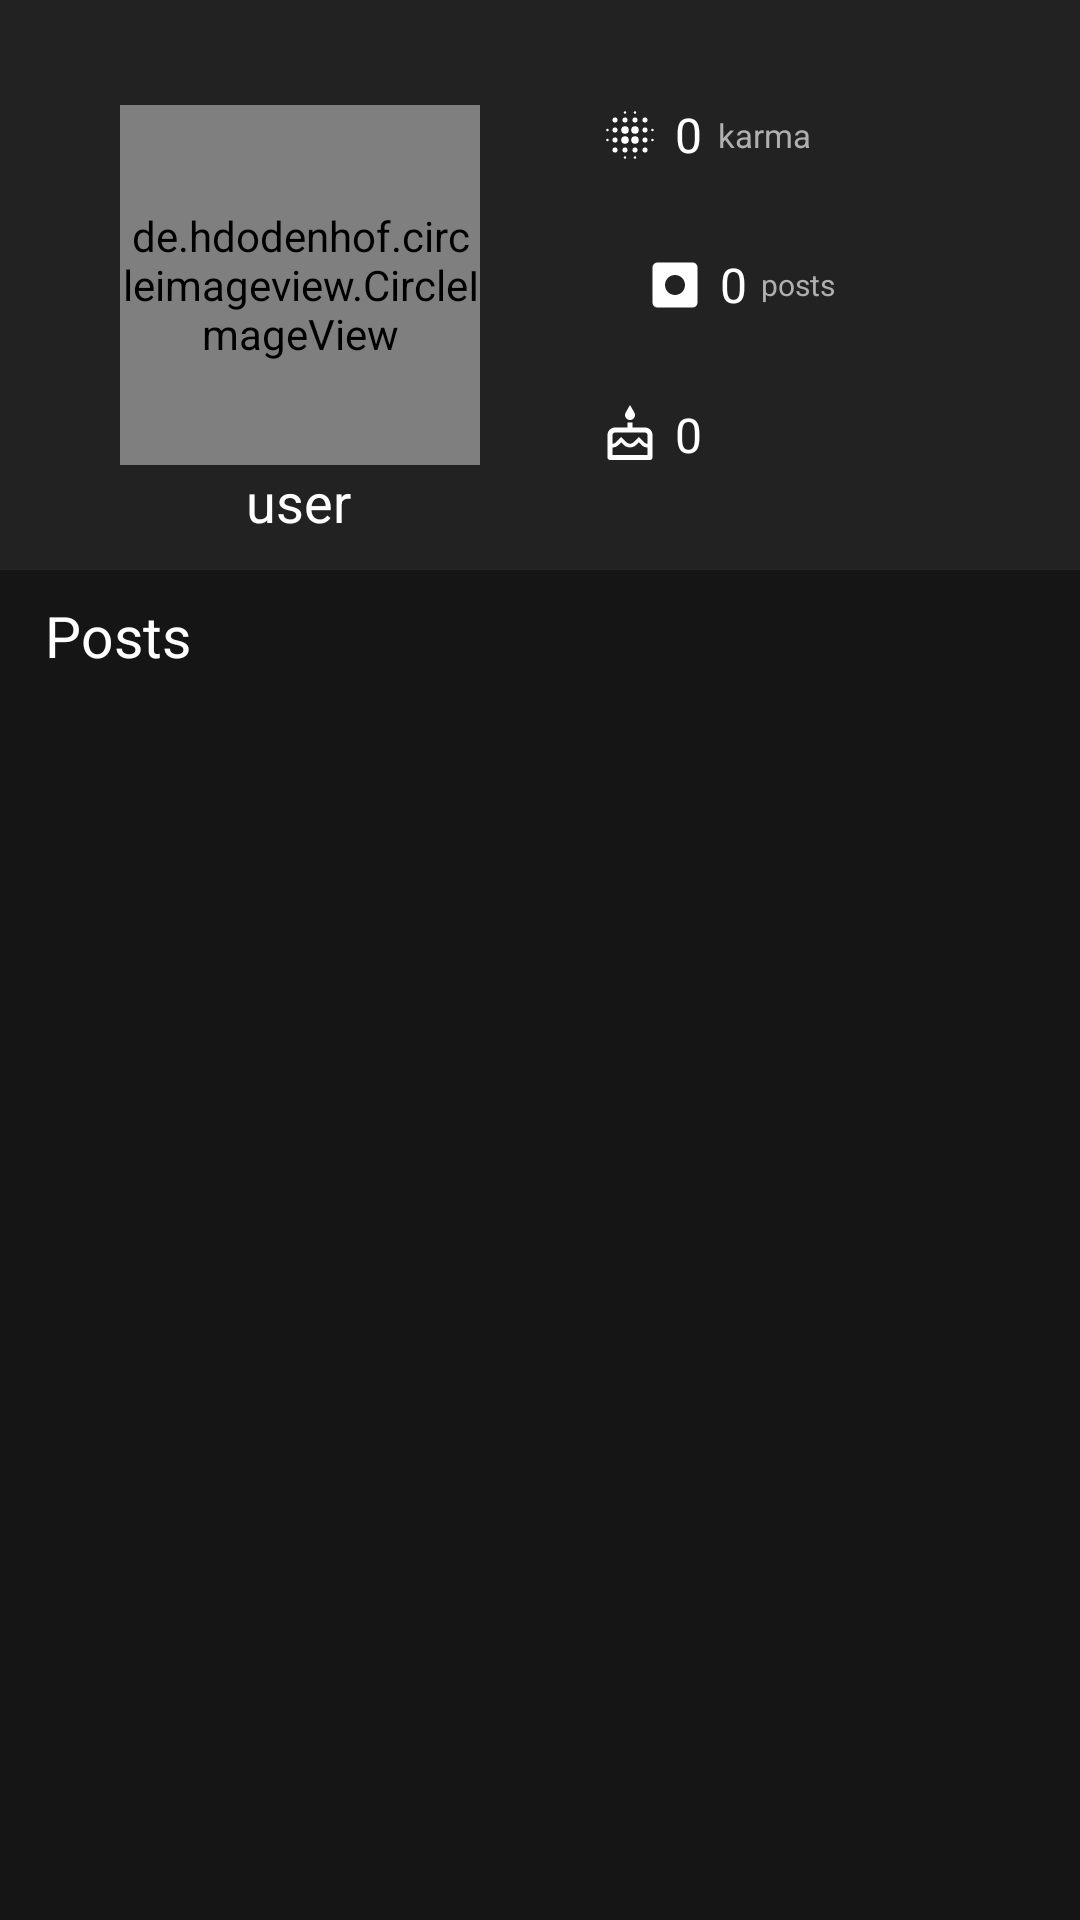

Named icons in this screenshot (1080px×1920px) and their centers, (x,y):
blur: (630,135)
cake variant: (630,432)
circle box: (675,285)
